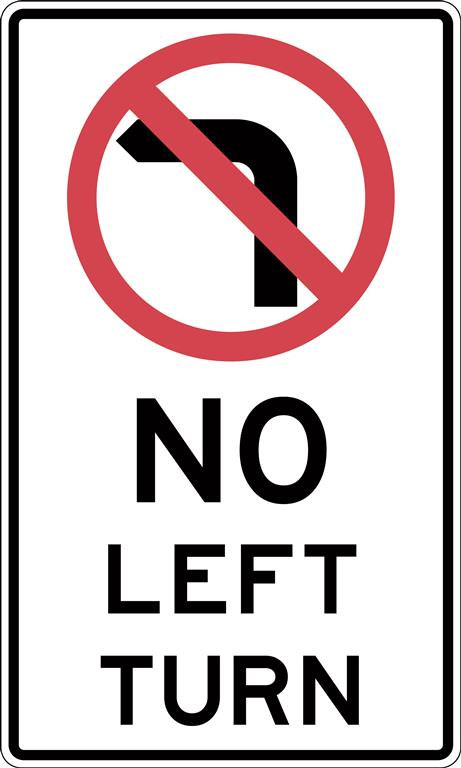No_left_turn: (65, 33, 395, 364)
